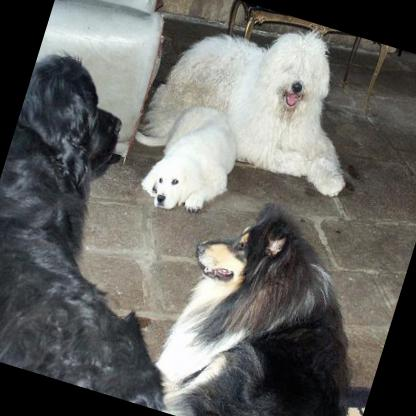komondor: (0, 39, 255, 407), (139, 180, 402, 416), (136, 0, 386, 198)
